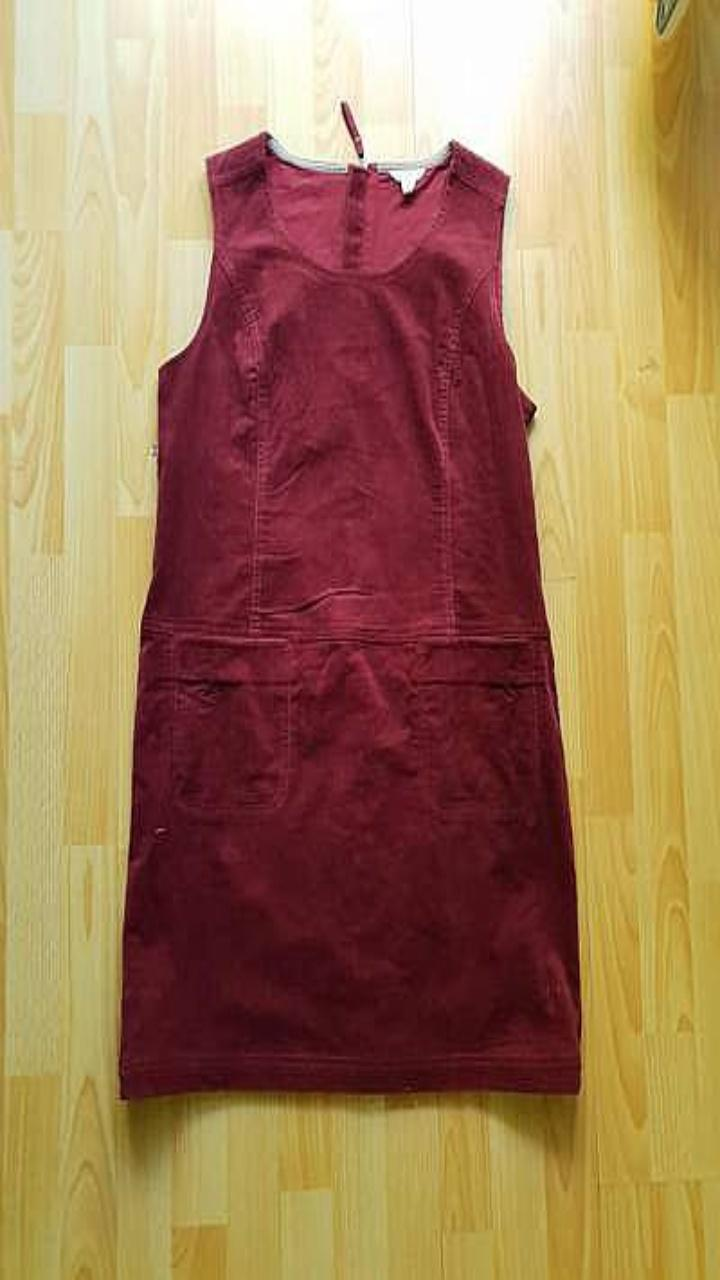Dresses: (119, 103, 580, 1097)
